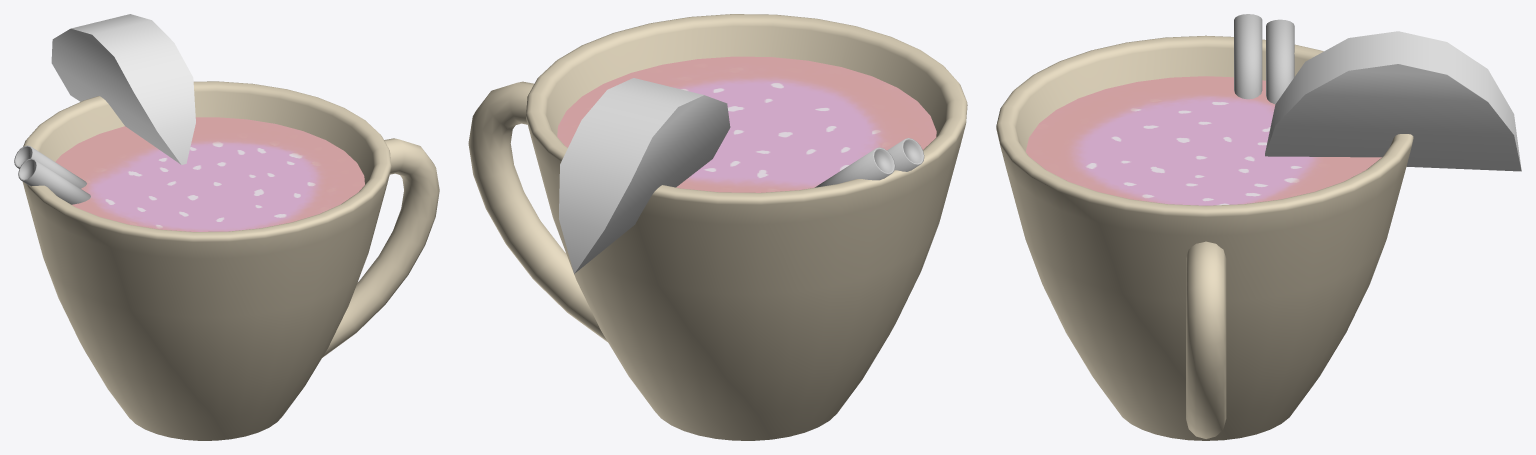
File: Apple Latte.fbx
3 renders of one model, left to right at view 1: azimuth 30°, elevation 25°; view 2: azimuth 150°, elevation 25°; view 3: azimuth 270°, elevation 25°, orthographic. The views are drawn at different scales.
Parts seen in each view (by area): view 1: CoffeeCup, Liquid, Apple slice, cinnnamon.002, cinnnamon; view 2: CoffeeCup, Liquid, Apple slice, cinnnamon, cinnnamon.002; view 3: CoffeeCup, Liquid, Apple slice, cinnnamon.002, cinnnamon.
Part boxes in pixels (box(x1,y1,x2,y2)): CoffeeCup: box(22, 81, 439, 440); Liquid: box(55, 117, 364, 231); Apple slice: box(51, 14, 195, 164); cinnnamon.002: box(18, 158, 90, 204); cinnnamon: box(14, 145, 86, 188); CoffeeCup: box(468, 14, 967, 440); Liquid: box(557, 56, 936, 192); Apple slice: box(559, 78, 730, 273); cinnnamon: box(815, 147, 895, 187); cinnnamon.002: box(887, 138, 924, 171); CoffeeCup: box(996, 35, 1413, 440); Liquid: box(1025, 76, 1381, 205); Apple slice: box(1265, 31, 1521, 171); cinnnamon.002: box(1234, 14, 1262, 99); cinnnamon: box(1266, 19, 1294, 104).
Bounding box in the file's own units: 57.24 × 43.5 × 58.13.
